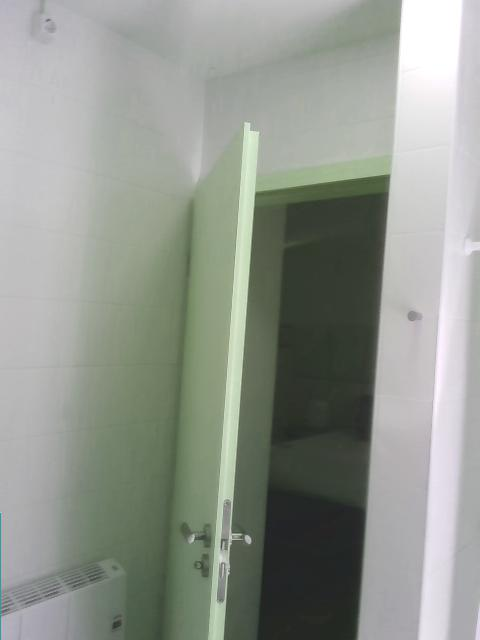semi_door: (160, 120, 393, 639)
